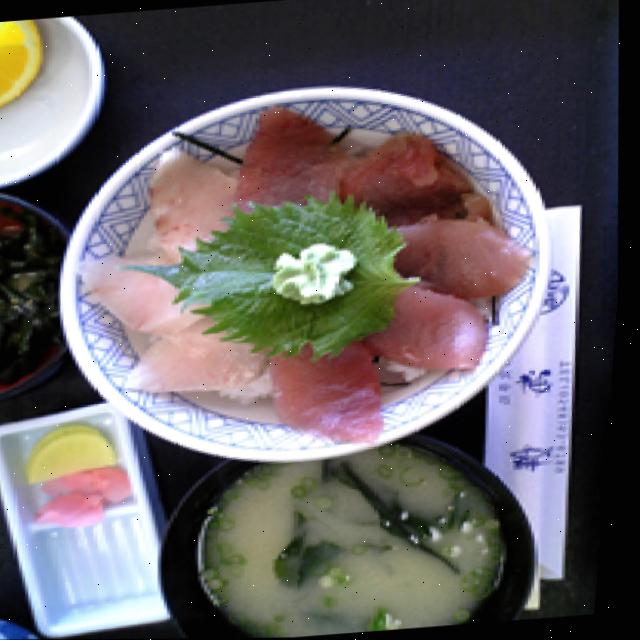刺身生食: (39, 67, 568, 475)
